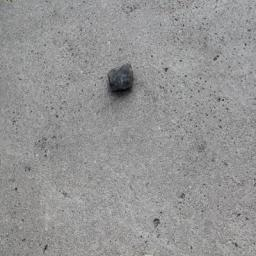FOD: (104, 62, 139, 94)
